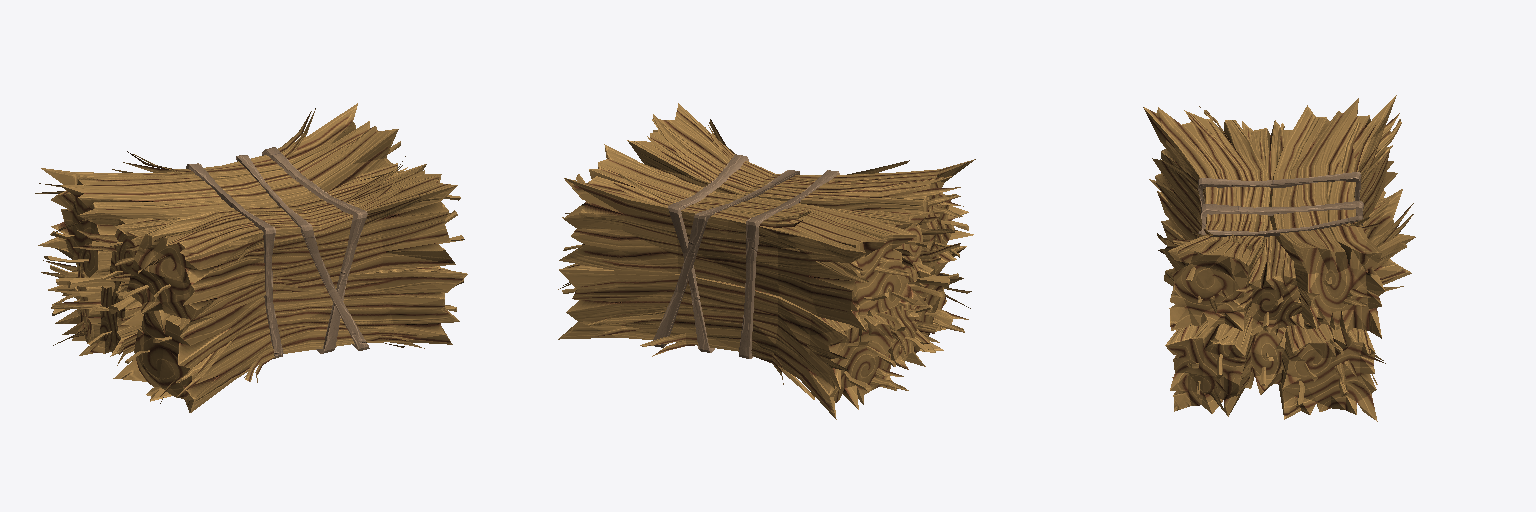
3 views of the same model, side by side, from view 1: azimuth 30°, elevation 25°; view 2: azimuth 150°, elevation 25°; view 3: azimuth 270°, elevation 25° (orthographic).
Visible parts, largest first — view 1: obj1; view 2: obj1; view 3: obj1.
Boxes of the visible parts, x1,y1,x2,y2 form: obj1: [35, 103, 467, 412]; obj1: [558, 103, 975, 419]; obj1: [1143, 95, 1415, 421].
Bounding box in the file's own units: 2.1 × 1.04 × 1.38.
1 materials, 1 textured.